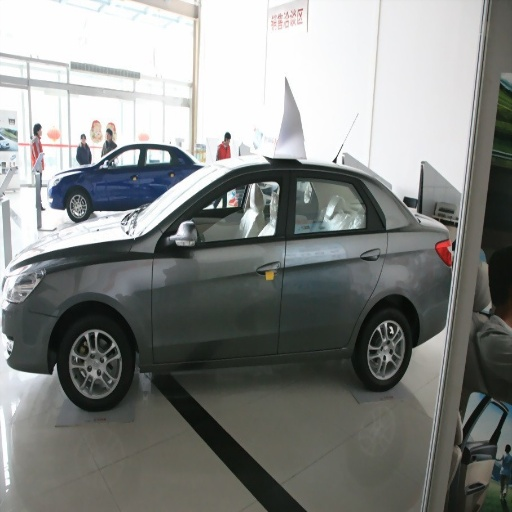back_left_door: (281, 164, 386, 353)
front_left_door: (152, 168, 283, 362)
